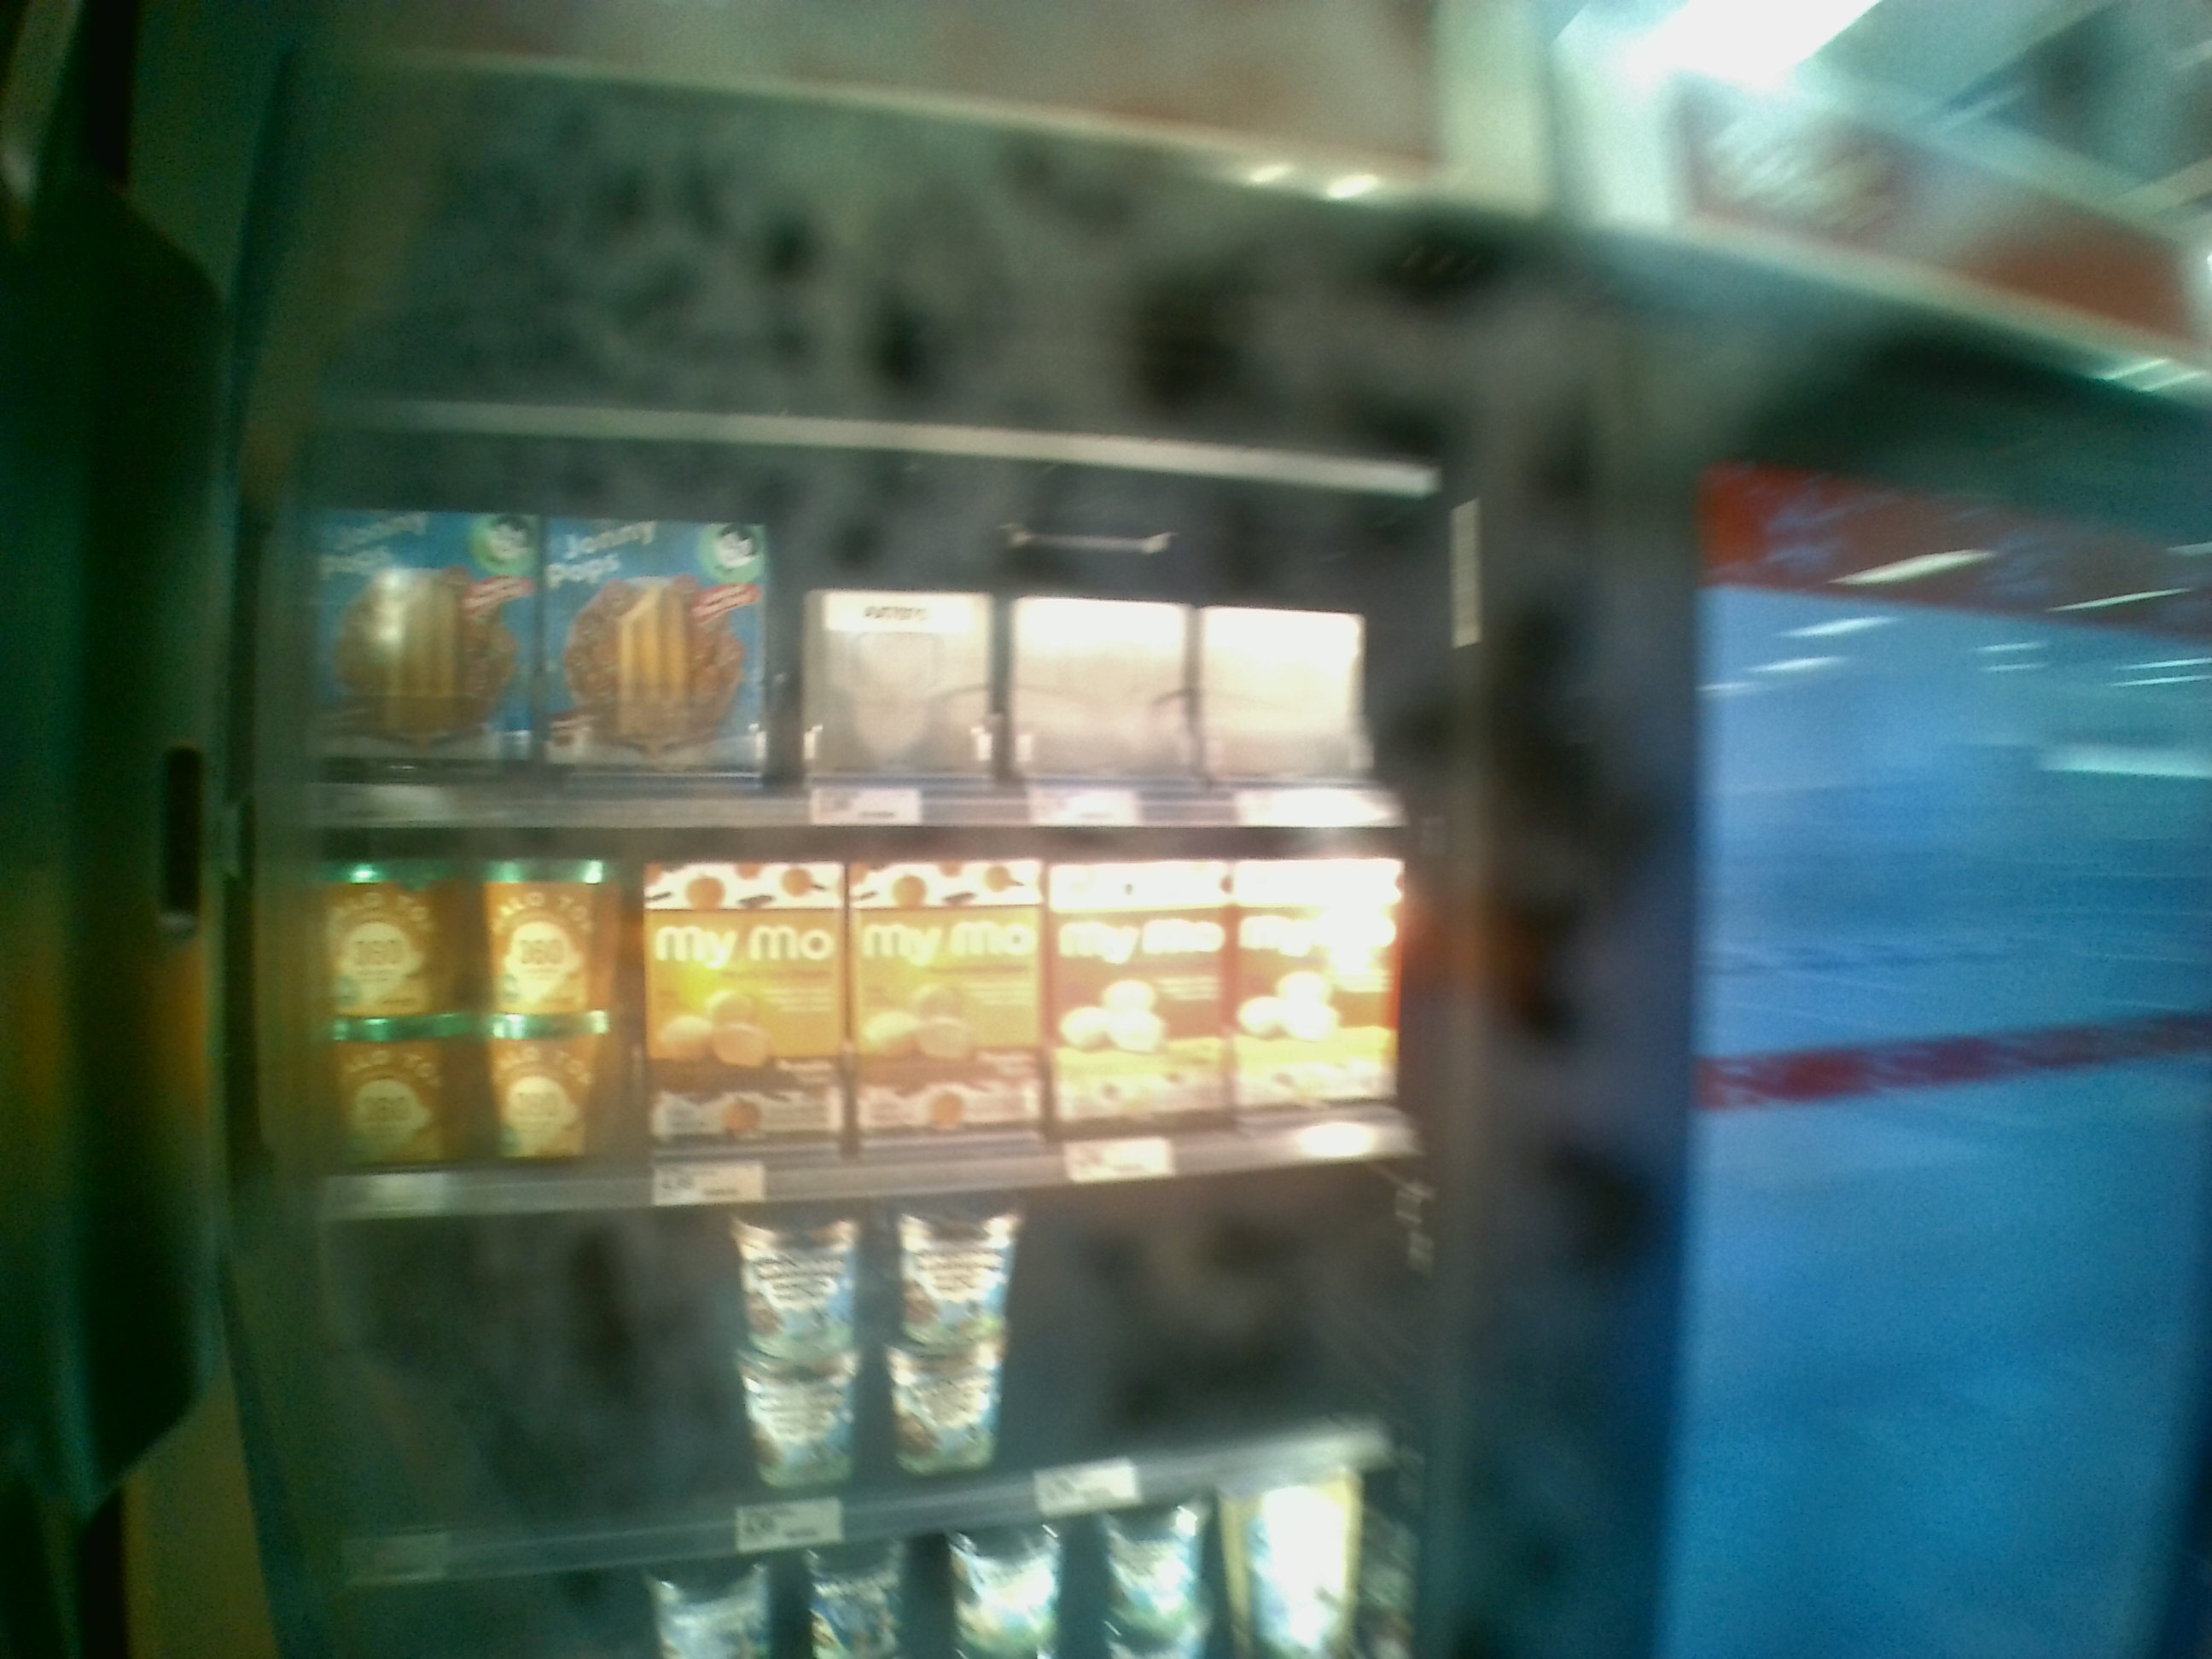shelf: (254, 448, 1423, 835), (260, 817, 1418, 1161), (260, 1192, 1404, 1466)
